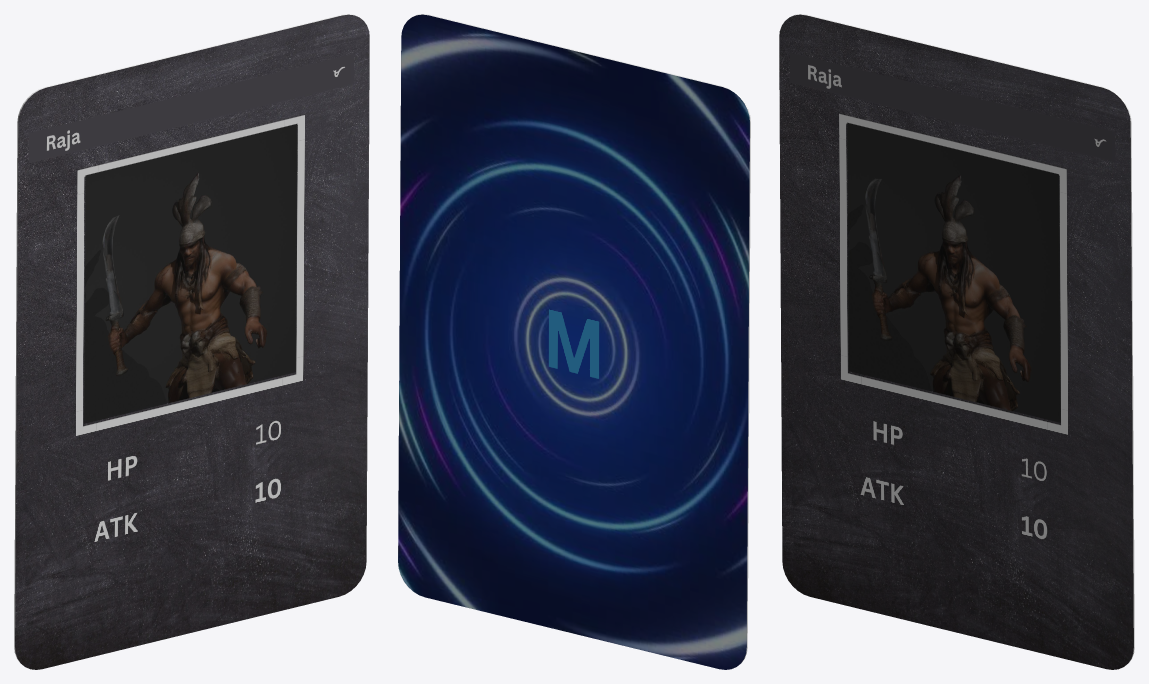
File: Raja.glb
3 views of the same model, side by side, from view 1: azimuth 30°, elevation 25°; view 2: azimuth 150°, elevation 25°; view 3: azimuth 330°, elevation 25° (orthographic).
Visible parts, largest first — view 1: Card; view 2: Card; view 3: Card.
Boxes of the visible parts, x1,y1,x2,y2 form: Card: (14,14,369,669); Card: (398,14,750,669); Card: (779,14,1134,669).
Size of the model in its own units: 0.056 by 0.0889 by 0.00122.
Materials: 3 (2 with a texture image).
